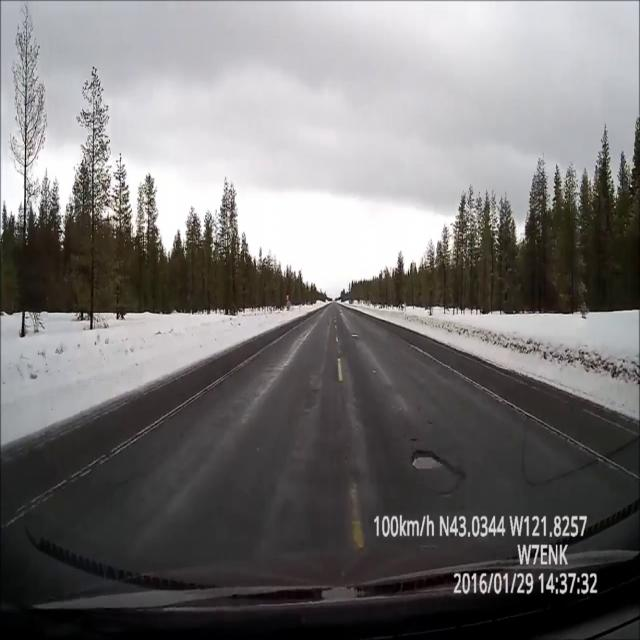Pothole: (411, 450, 466, 493)
